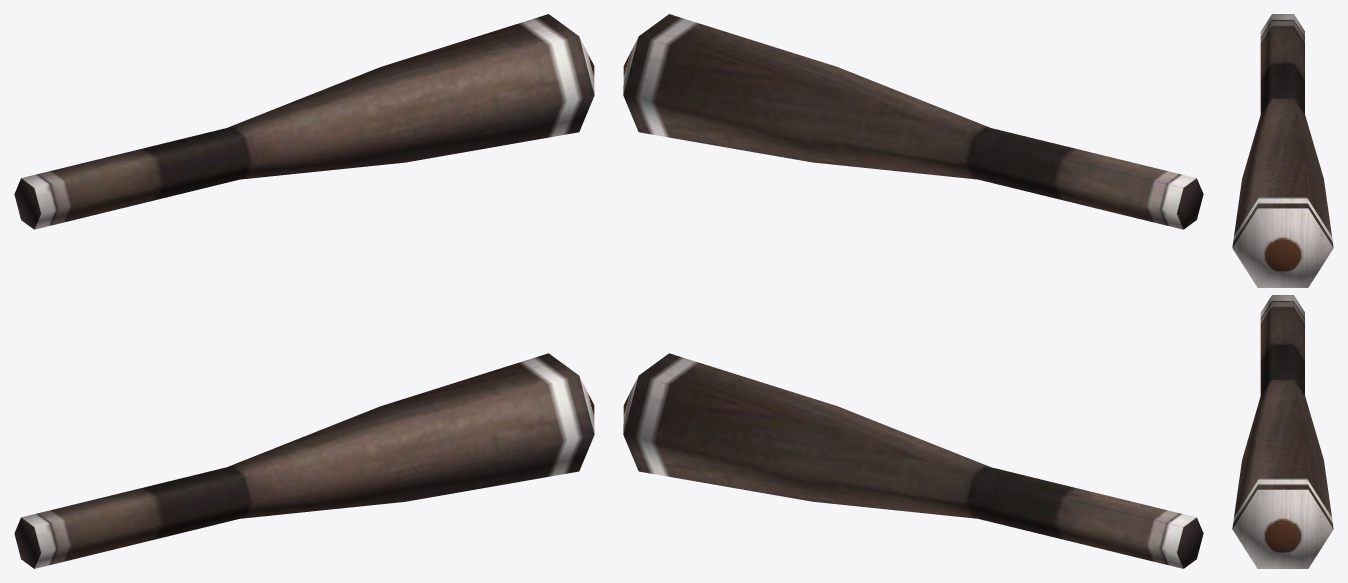
The picture shows the model from 3 angles, left to right: view 1: azimuth 30°, elevation 25°; view 2: azimuth 150°, elevation 25°; view 3: azimuth 270°, elevation 25°; orthographic projection. The views are drawn at different scales.
Visible parts, largest first — view 1: node_id10; view 2: node_id10; view 3: node_id10.
Boxes of the visible parts, box(x1,y1,x2,y2) form: node_id10: box(14, 14, 594, 568); node_id10: box(623, 14, 1203, 568); node_id10: box(1232, 14, 1333, 568).
Size of the model in its own units: 0.0898 by 0.0659 by 0.0168.
1 material, 1 textured.
